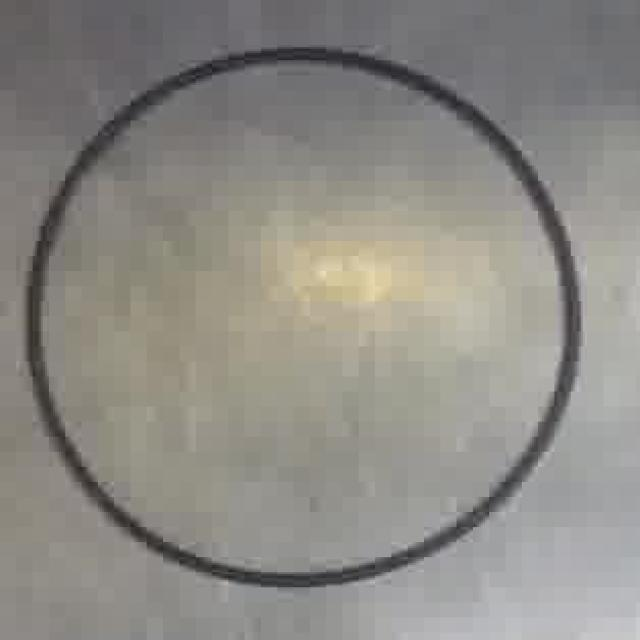Circle: (22, 44, 585, 588)
